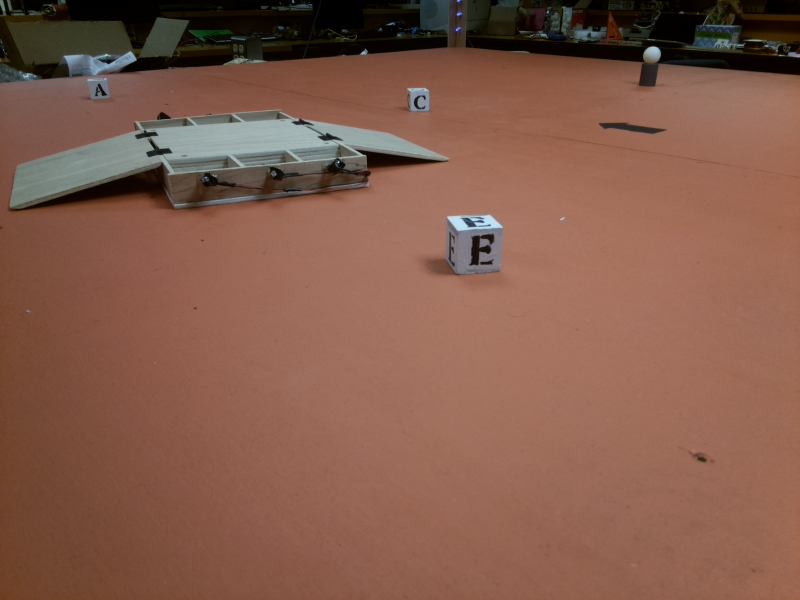blockA: (86, 80, 113, 102)
blockC: (403, 87, 433, 114)
blockE: (445, 214, 506, 274)
corner: (444, 1, 471, 50)
obstacle: (639, 44, 662, 90)
side: (162, 143, 370, 212)
slope: (5, 127, 160, 216), (310, 116, 452, 165)
start: (598, 117, 668, 139)
